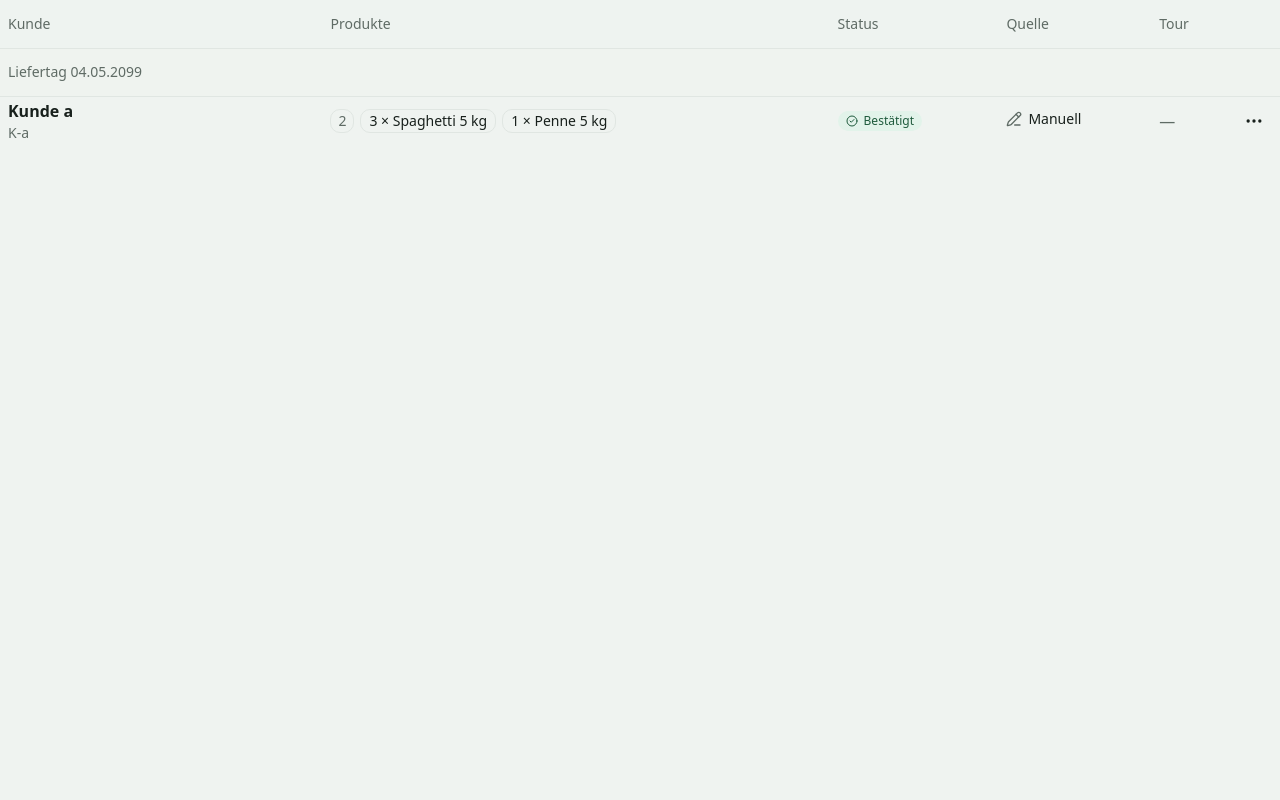
Test: OrdersTable (de) › opens the right drawer with the order when the row is clicked
Click the row with test id "order-row".
click(428, 120)  # box [0, 96, 1279, 144]
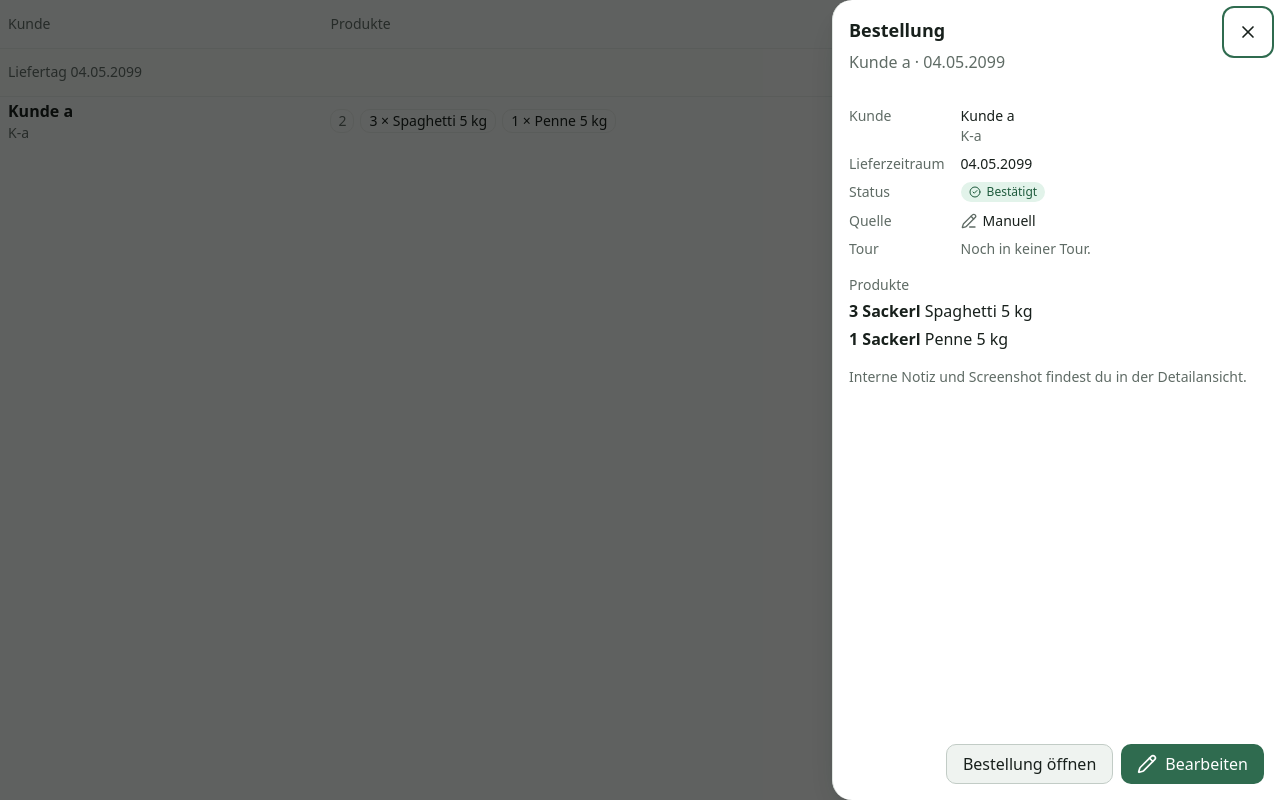
Check: the dialog with test id "order-drawer" is shown, box [832, 0, 1279, 799]
Check: the link "Kunde a" is shown, box [961, 106, 1015, 125]
